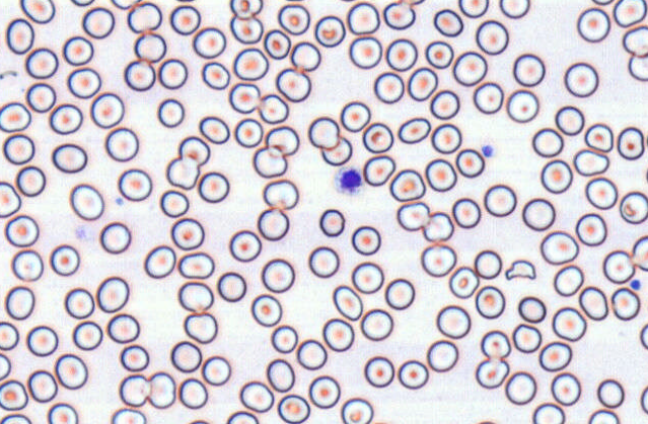PLT: (334, 166, 363, 197), (480, 144, 495, 159), (630, 277, 644, 292)
RBC: (539, 230, 579, 265), (69, 183, 104, 220), (275, 67, 311, 102), (452, 50, 487, 86), (563, 61, 598, 97), (551, 306, 586, 341), (260, 258, 295, 293), (54, 353, 88, 389), (420, 243, 456, 277), (104, 126, 138, 162), (90, 92, 124, 128), (435, 304, 470, 338), (576, 7, 610, 42), (389, 168, 425, 201), (96, 276, 129, 312), (232, 47, 268, 80), (475, 19, 508, 55), (177, 281, 214, 313), (521, 197, 555, 231), (252, 145, 287, 178), (602, 249, 635, 284), (117, 168, 152, 201), (4, 214, 39, 247), (540, 159, 573, 194), (126, 1, 162, 33), (165, 156, 199, 189), (143, 244, 176, 278), (424, 158, 457, 192), (170, 217, 204, 250), (346, 1, 380, 34), (81, 6, 115, 39), (483, 183, 516, 217), (512, 53, 545, 87), (348, 36, 382, 69), (506, 89, 539, 123), (239, 380, 274, 412), (262, 178, 298, 209), (307, 116, 340, 149), (360, 308, 393, 341), (228, 229, 261, 262), (585, 176, 618, 209), (183, 311, 217, 343), (504, 371, 536, 405), (322, 317, 354, 351), (575, 212, 607, 246), (24, 47, 58, 79), (192, 26, 226, 58), (4, 285, 35, 320), (407, 66, 438, 101), (66, 67, 101, 98), (48, 103, 83, 134), (332, 284, 362, 320), (51, 143, 87, 173), (147, 371, 176, 408), (5, 17, 34, 54), (118, 374, 150, 407), (257, 207, 289, 240), (426, 339, 458, 372), (250, 293, 282, 326), (362, 154, 395, 186), (308, 375, 340, 408), (351, 261, 384, 293), (99, 221, 131, 254), (385, 38, 417, 71), (277, 3, 310, 35), (475, 358, 509, 389), (550, 372, 581, 406), (578, 285, 608, 320), (177, 251, 214, 279), (170, 340, 202, 372), (197, 171, 229, 203), (11, 249, 43, 281), (123, 59, 155, 91), (133, 31, 166, 62), (448, 265, 479, 298), (2, 133, 35, 164), (308, 245, 339, 278), (472, 81, 503, 114), (265, 358, 295, 392), (538, 341, 572, 371), (265, 125, 299, 155), (106, 313, 140, 343), (229, 14, 263, 44), (475, 285, 505, 319), (610, 286, 640, 320), (573, 148, 609, 176), (320, 135, 352, 166), (422, 211, 454, 242), (178, 135, 210, 166), (257, 93, 289, 124), (296, 338, 327, 370), (26, 325, 58, 356), (363, 355, 394, 387), (373, 71, 404, 103), (228, 82, 260, 113), (553, 264, 584, 296), (384, 278, 415, 310), (169, 4, 201, 35), (314, 15, 345, 47), (396, 201, 429, 231), (277, 393, 310, 423), (27, 369, 57, 402), (15, 165, 46, 196), (0, 101, 31, 132), (362, 122, 393, 153), (178, 377, 208, 409), (64, 287, 94, 319), (531, 127, 563, 157), (340, 100, 370, 132), (49, 244, 79, 276), (382, 1, 415, 30), (619, 190, 647, 224), (616, 126, 644, 160), (480, 329, 511, 359), (397, 359, 428, 389), (290, 41, 321, 71), (72, 320, 103, 350), (25, 82, 56, 112), (431, 123, 461, 154), (62, 35, 93, 65), (451, 197, 481, 228), (157, 58, 187, 89), (612, 0, 646, 27), (201, 355, 231, 385), (351, 225, 381, 255), (429, 89, 459, 119), (554, 105, 584, 135), (217, 271, 246, 302), (198, 115, 229, 144), (397, 116, 430, 143), (512, 323, 541, 353), (473, 249, 502, 279), (234, 117, 263, 147), (433, 8, 463, 37), (455, 148, 484, 178), (0, 379, 28, 410), (263, 28, 291, 59), (340, 397, 373, 423), (424, 40, 453, 69), (201, 61, 230, 90), (584, 123, 613, 152), (159, 189, 189, 217), (596, 378, 624, 408), (270, 324, 298, 353), (517, 295, 546, 323), (119, 344, 149, 371), (20, 0, 55, 23), (622, 25, 647, 57), (157, 98, 184, 127), (0, 181, 21, 217), (319, 208, 345, 236), (532, 402, 565, 423), (47, 402, 78, 423), (229, 0, 262, 18), (111, 407, 146, 423), (499, 0, 530, 18), (0, 321, 19, 350), (632, 235, 647, 271), (458, 0, 488, 18), (628, 54, 647, 81), (587, 408, 619, 423), (226, 410, 258, 423), (0, 413, 31, 423), (0, 353, 11, 380), (110, 0, 138, 9), (640, 385, 648, 414), (639, 323, 647, 349), (0, 69, 18, 80), (394, 0, 425, 5), (70, 0, 94, 6), (474, 419, 497, 424), (187, 418, 210, 423), (591, 0, 613, 5), (645, 165, 648, 183), (284, 0, 309, 2), (174, 0, 197, 2)
Schistocyte: (506, 259, 538, 282)
